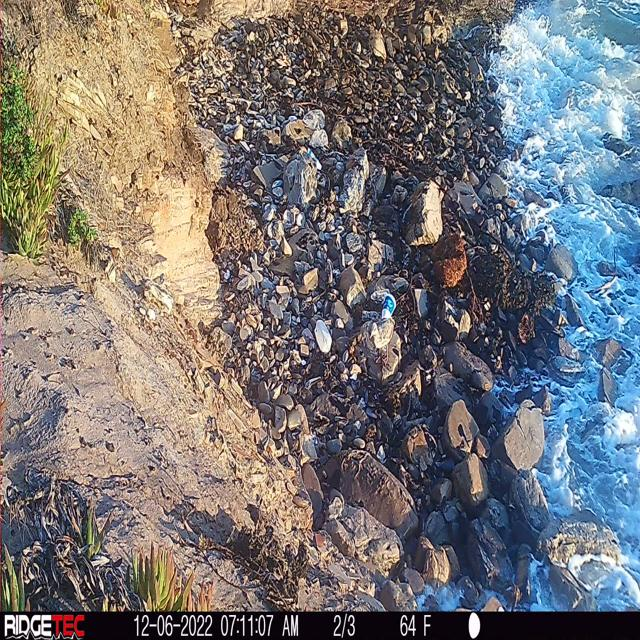bird: (364, 302, 403, 371)
